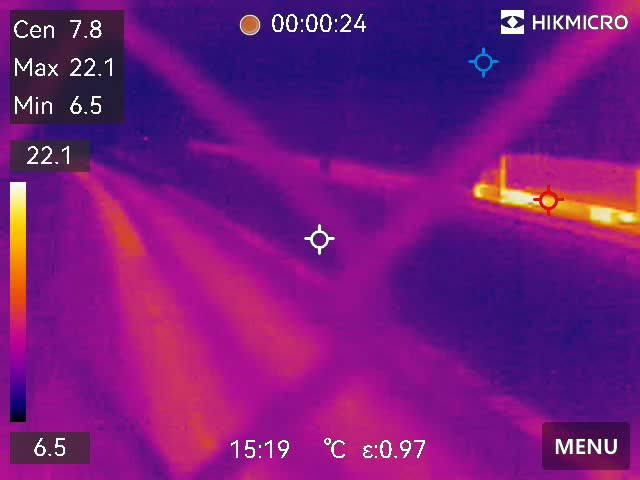heavyTruck: (474, 150, 640, 223)
